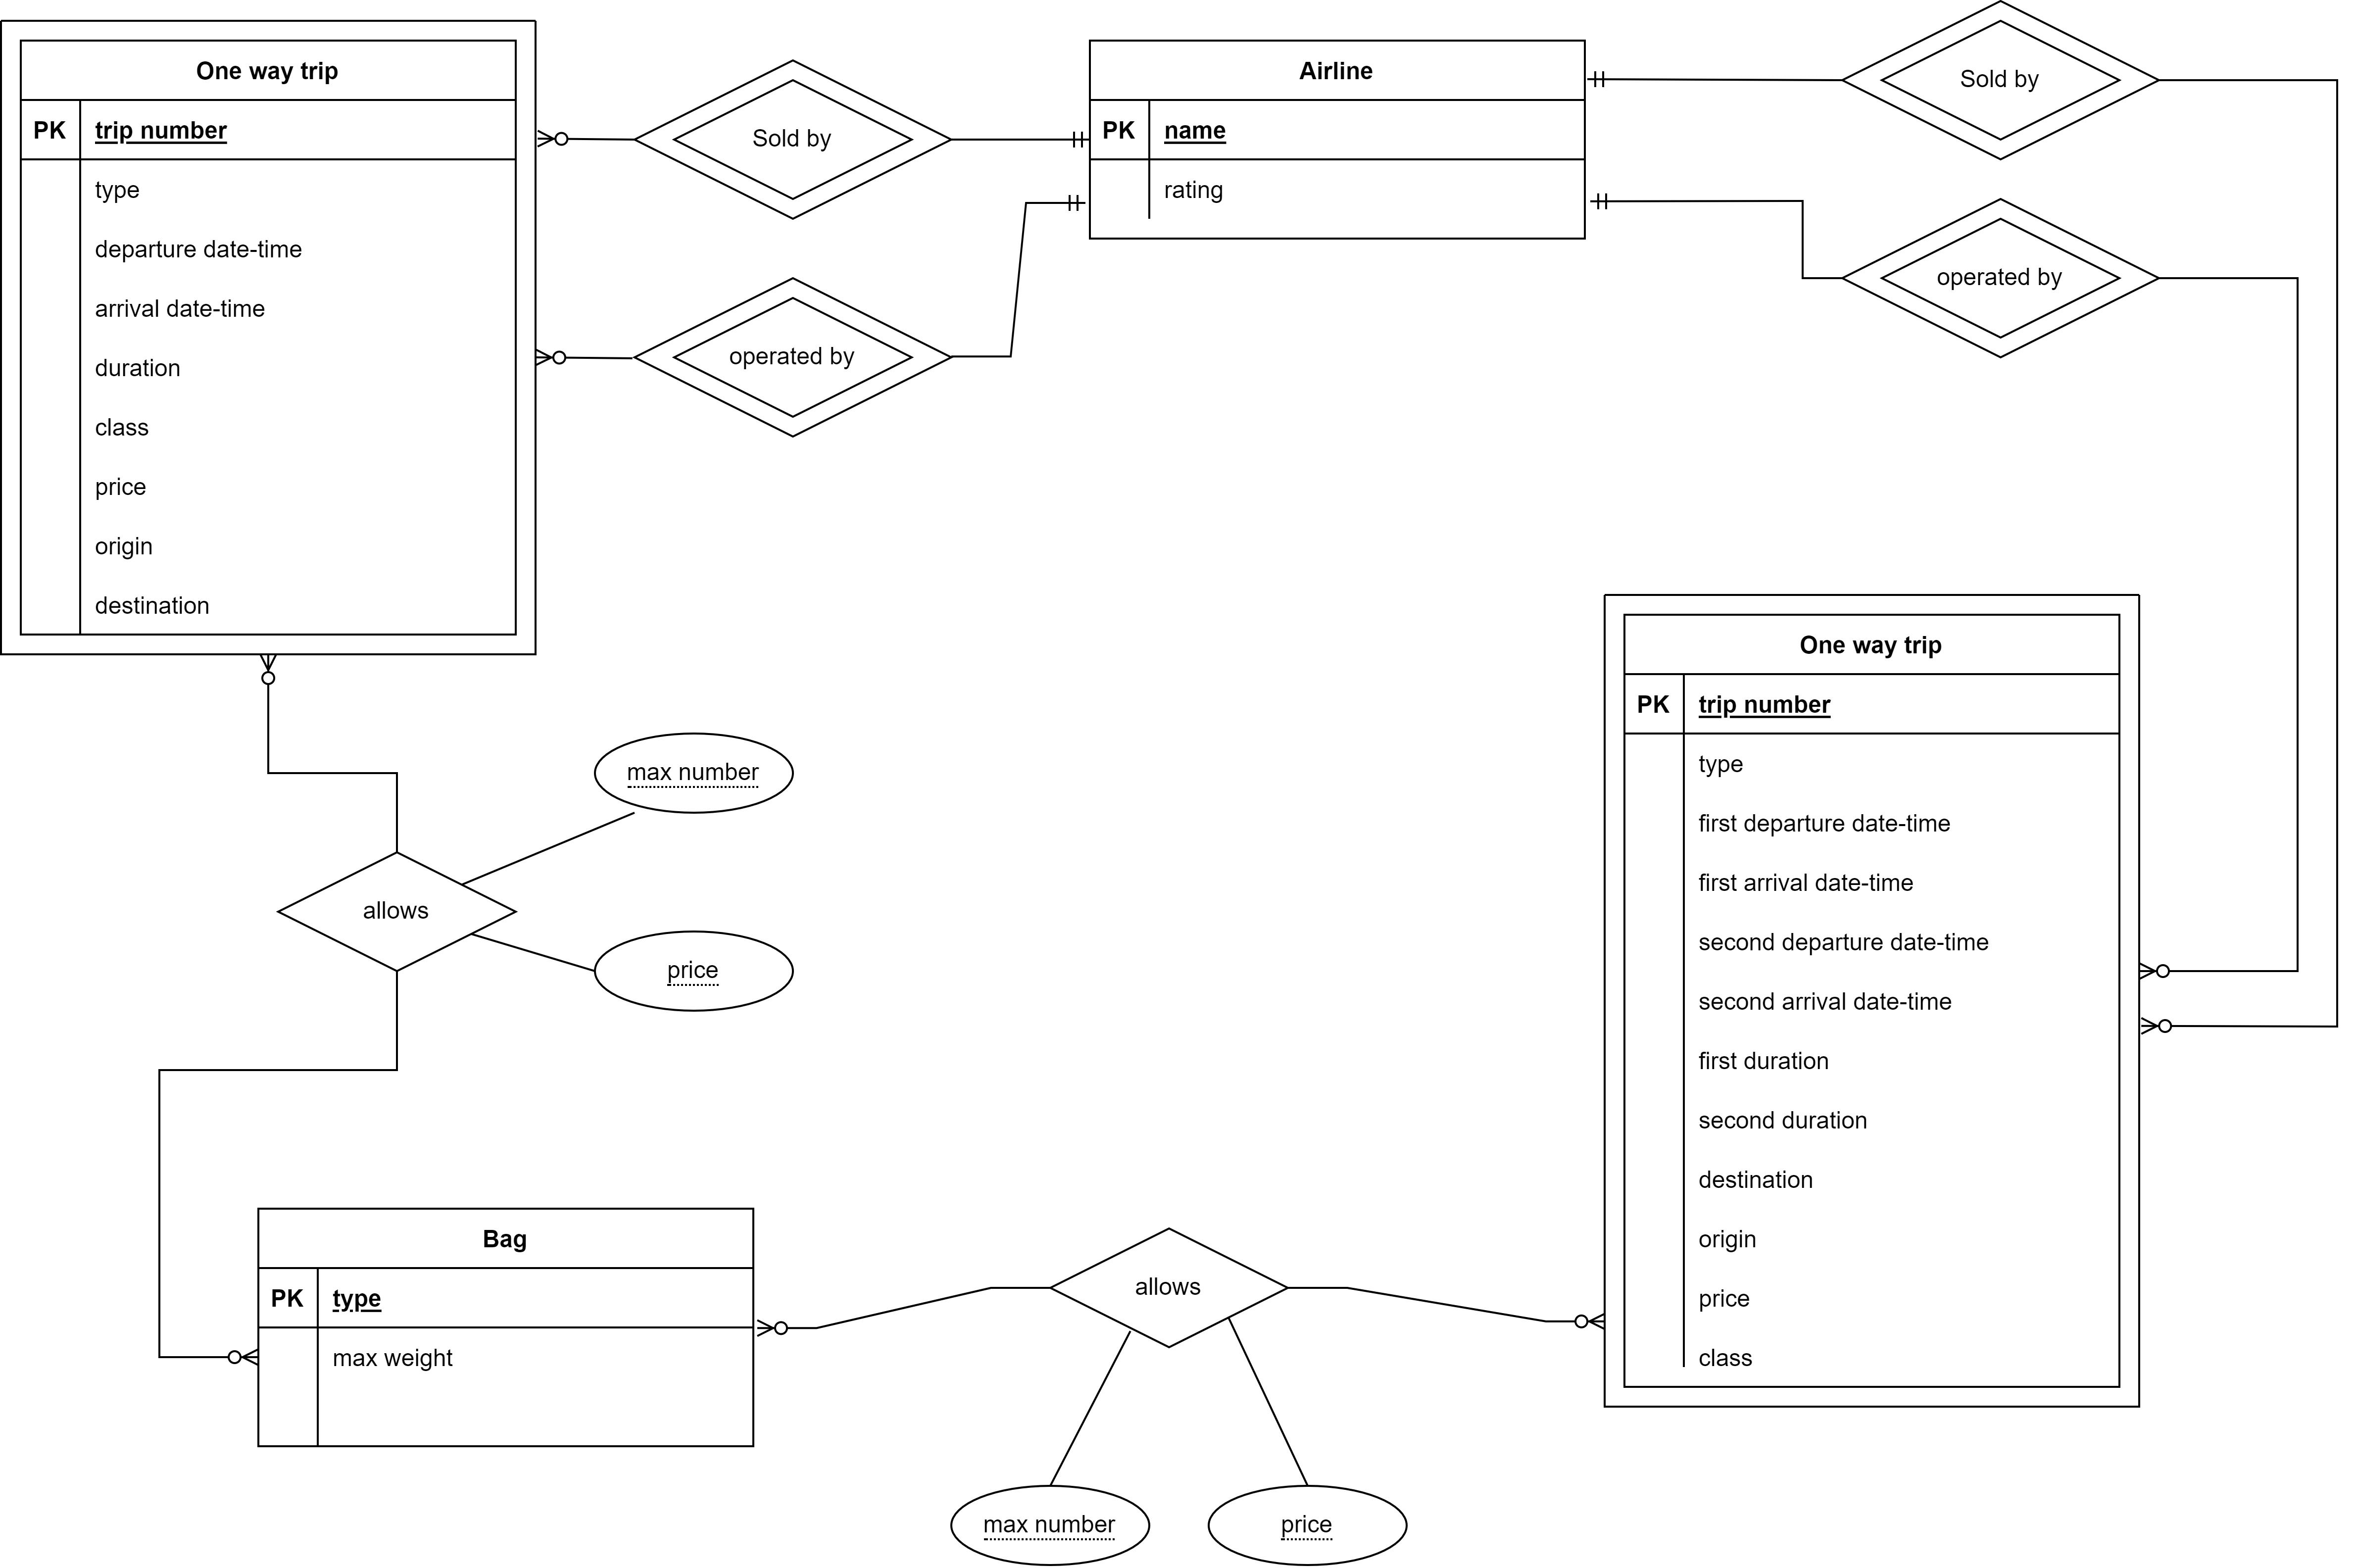attribute: (1210, 1484, 1408, 1568), (591, 733, 796, 814), (953, 1487, 1153, 1568), (596, 933, 789, 1015)
entity: (255, 1200, 759, 1458), (1086, 35, 1585, 247)
relationship: (1048, 1228, 1287, 1354), (282, 850, 518, 976)
weakentity: (1602, 588, 2144, 1412), (0, 19, 542, 661)
weakrelationship: (1840, 192, 2164, 357), (1840, 0, 2158, 161), (637, 276, 950, 437), (633, 66, 948, 219)
